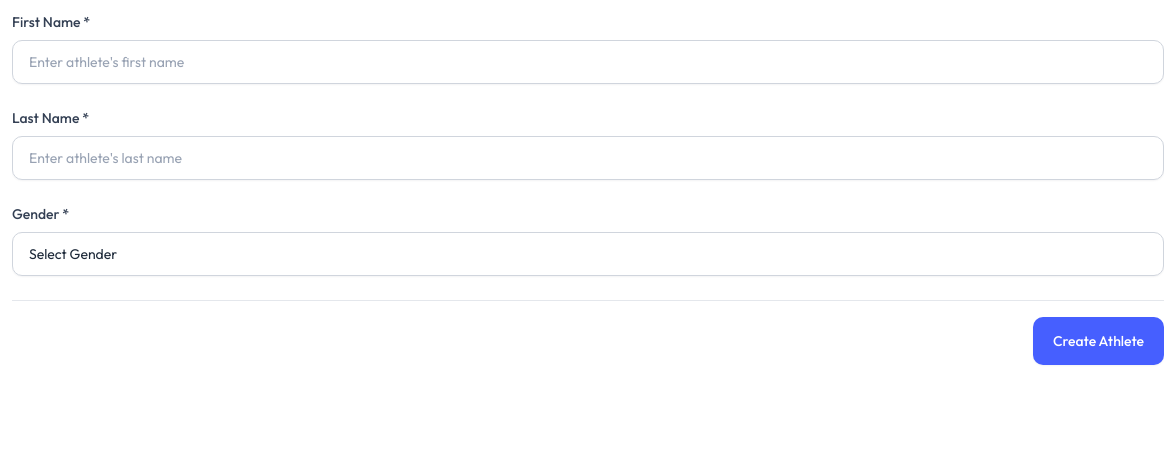
Scenario: AthleteForm › Create Mode › validates required fields on create
Expected: the field labelled "First Name *" is shown, 12,40 -> 1164,84
// Try to submit without filling fields
Click the button "Create Athlete".
click(1098, 341)  # box 1033,317 -> 1164,365
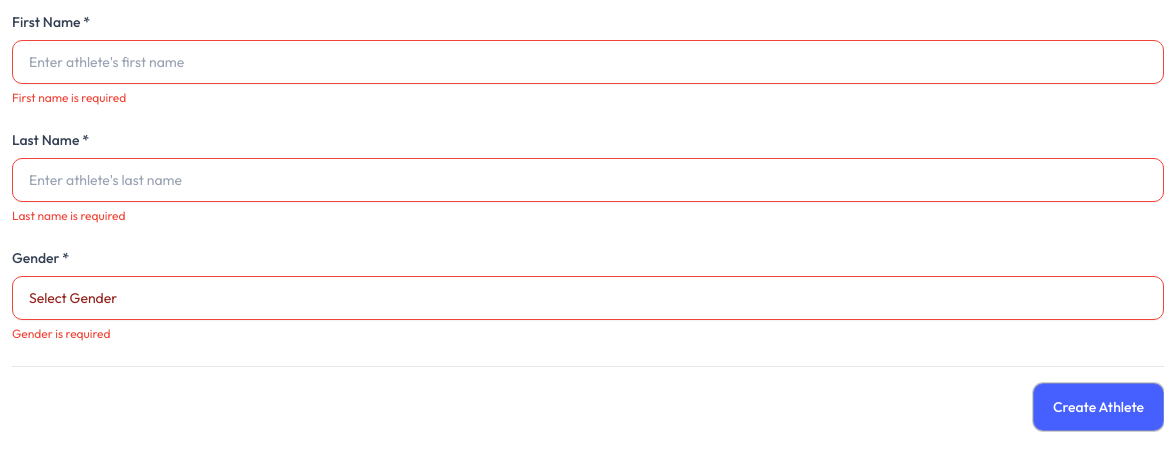
Expected: the text "First name is required" is shown, 12,90 -> 126,105
Expected: the text "Last name is required" is shown, 12,208 -> 126,223
Expected: the text "Gender is required" is shown, 12,326 -> 110,341
